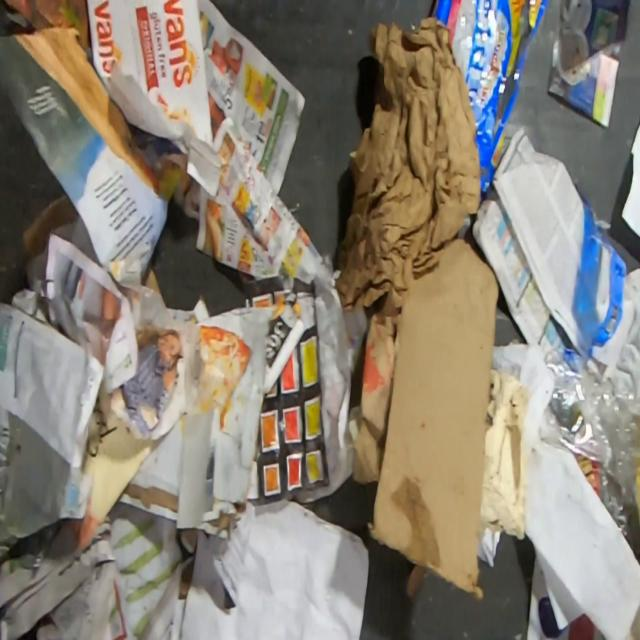cardboard: (366, 235, 501, 601), (479, 367, 531, 540), (351, 310, 403, 483), (20, 193, 81, 262), (405, 561, 430, 597)
rigid_plastic: (546, 204, 640, 576)
soft_plastic: (430, 0, 551, 203)
